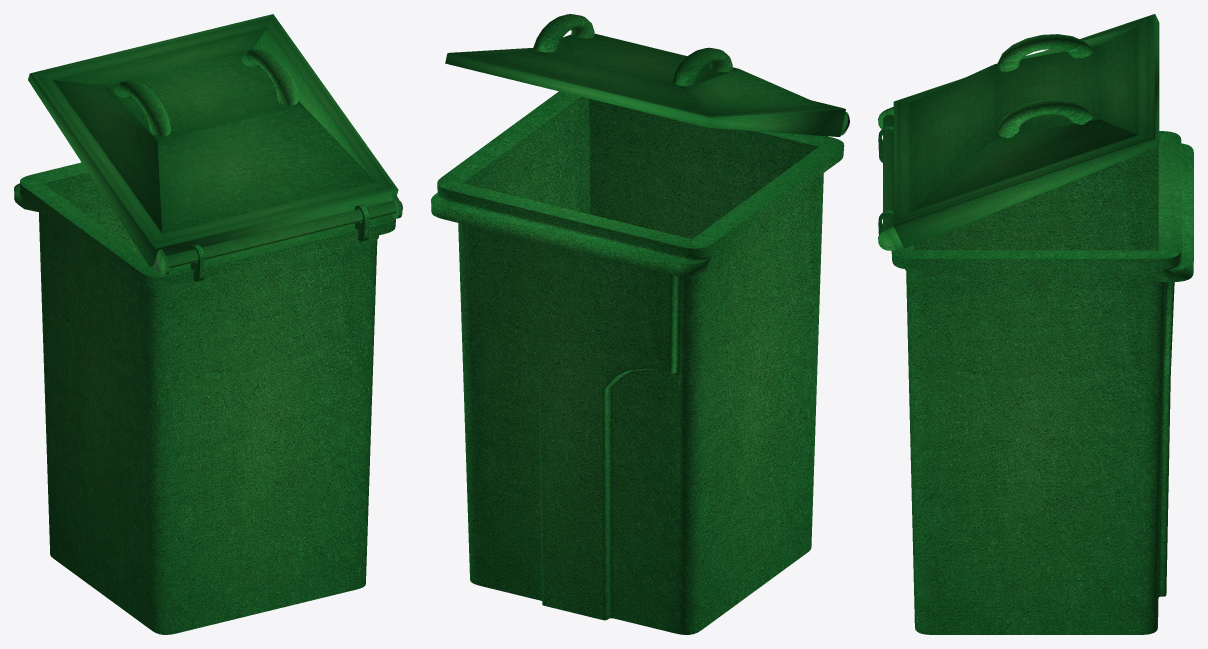
The model's file is GarbageCan.obj.
3 views of the same model, side by side, from view 1: azimuth 30°, elevation 25°; view 2: azimuth 150°, elevation 25°; view 3: azimuth 270°, elevation 25° (orthographic). The views are drawn at different scales.
Bounding box in the file's own units: 0.7659 × 1.44 × 0.7989.
Materials: 2 (2 with a texture image).
